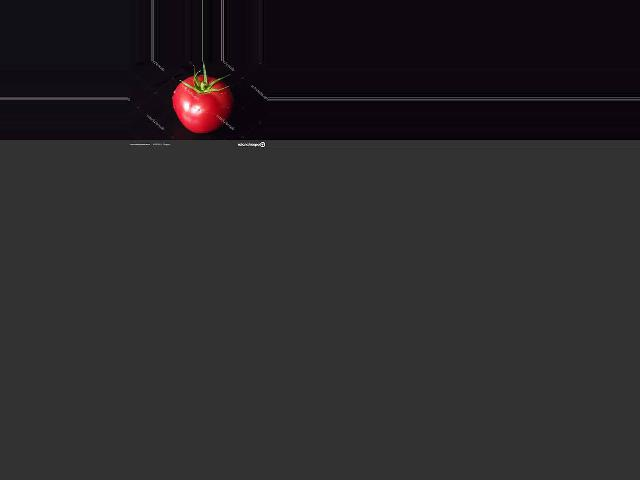tomato: (172, 75, 232, 133)
